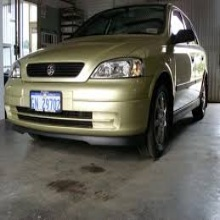no damage: (4, 3, 209, 160)
